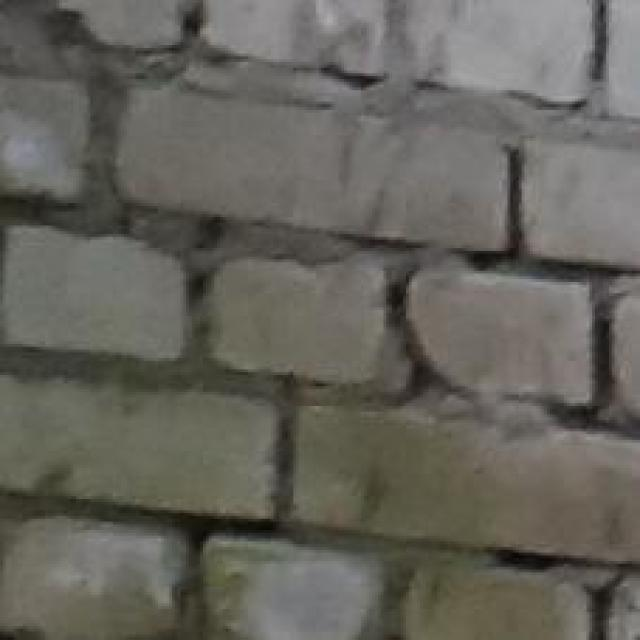Crack: (331, 94, 640, 472)
